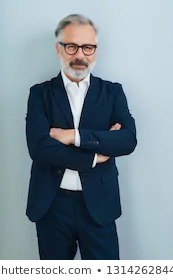F_M_suit jacket: (25, 68, 139, 226)
